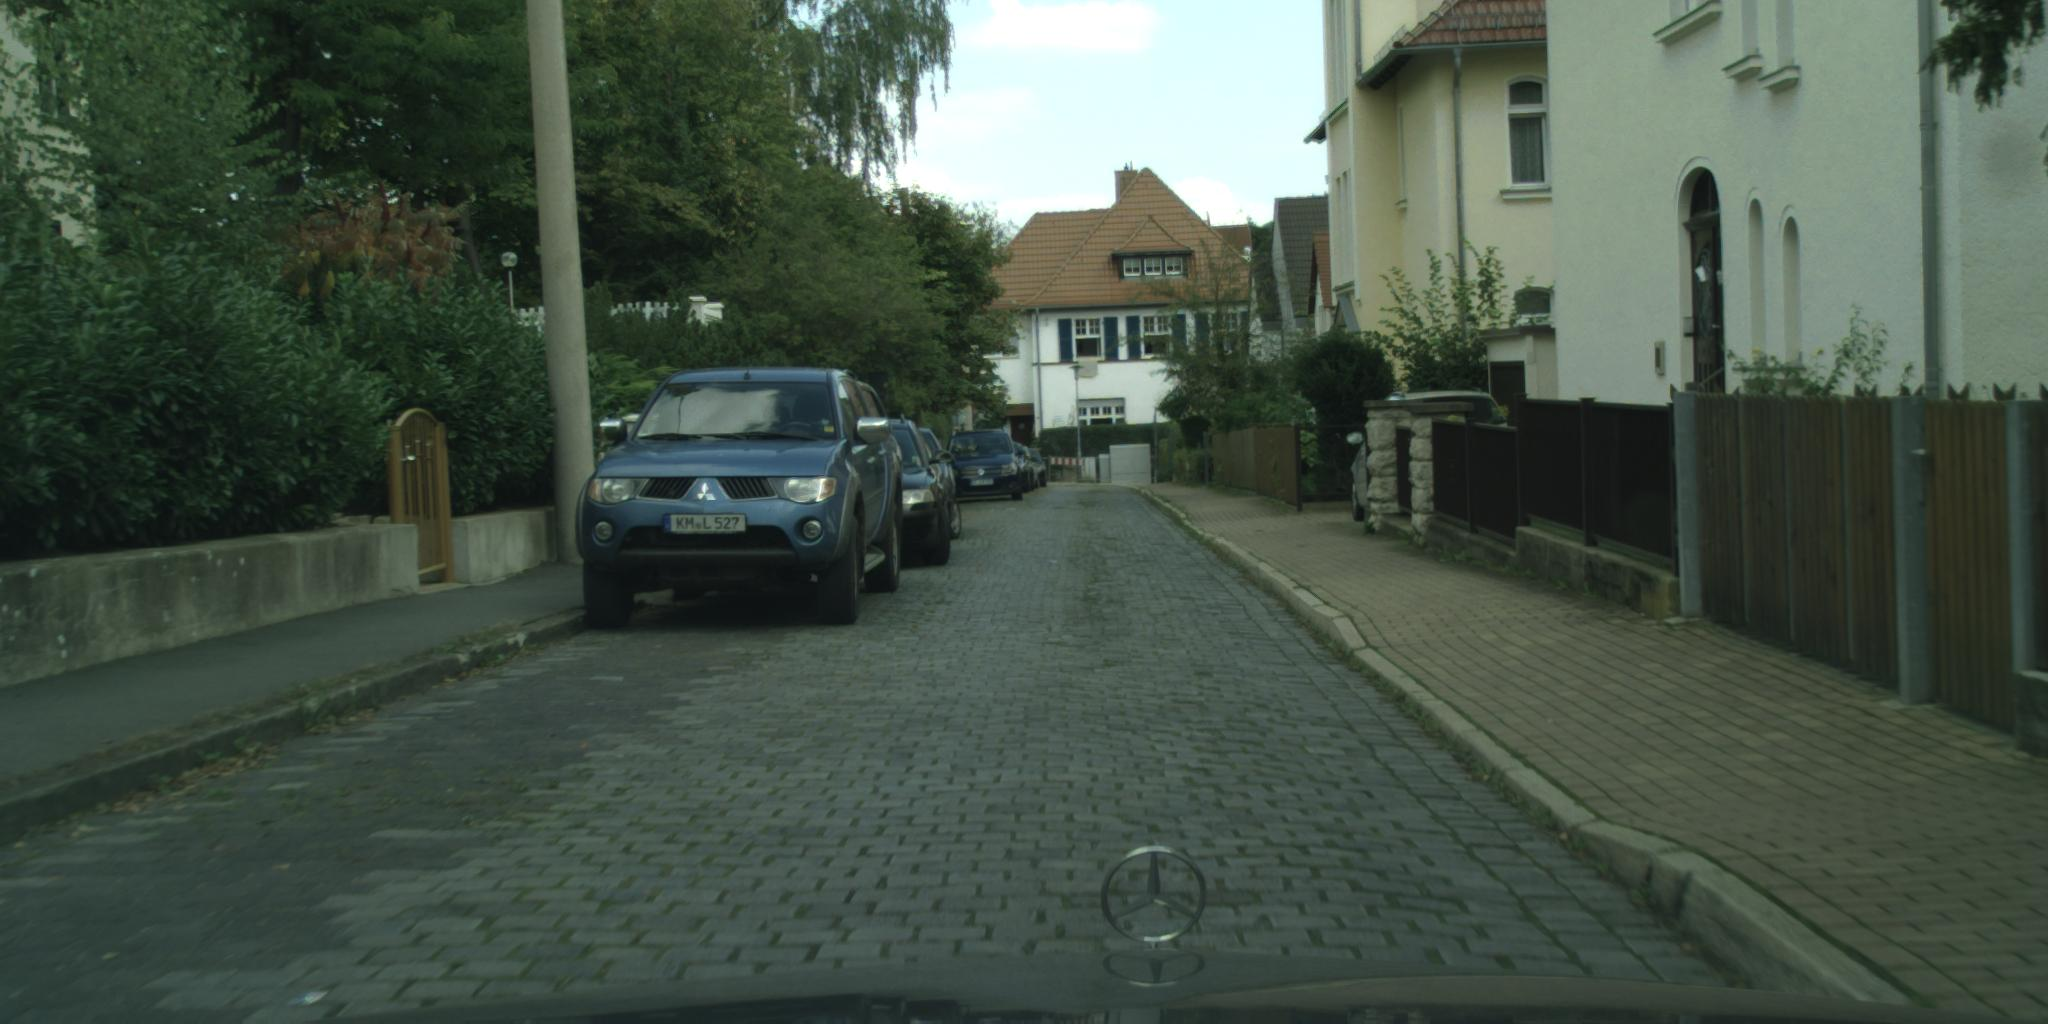car: (576, 364, 906, 631), (1347, 388, 1511, 525), (875, 415, 956, 567), (906, 428, 963, 542), (948, 430, 1027, 502)
